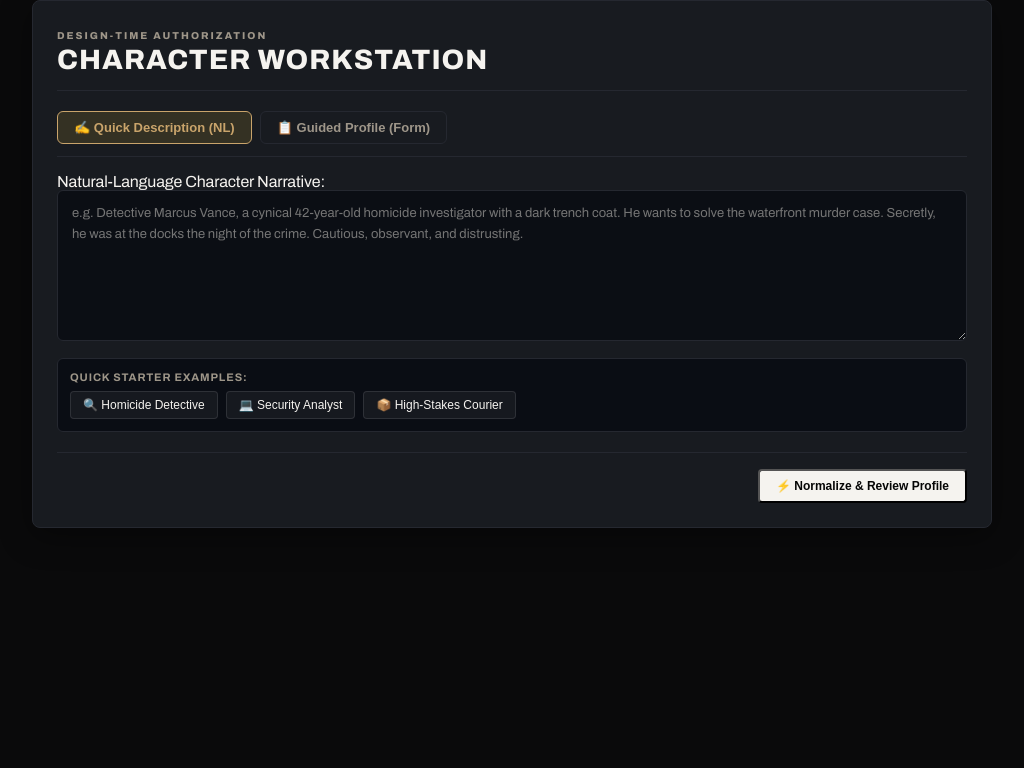
Scenario: CharacterWorkstation Component (Phase A) › allows returning to Edit Raw Input from Review Panel
The width and height of the screenshot is (1024, 768).
Replace the text in the text box with placeholder "e.g. Detective Marcus Vance" with "Original raw text". click: [512, 265]
box: [57, 190, 967, 341]
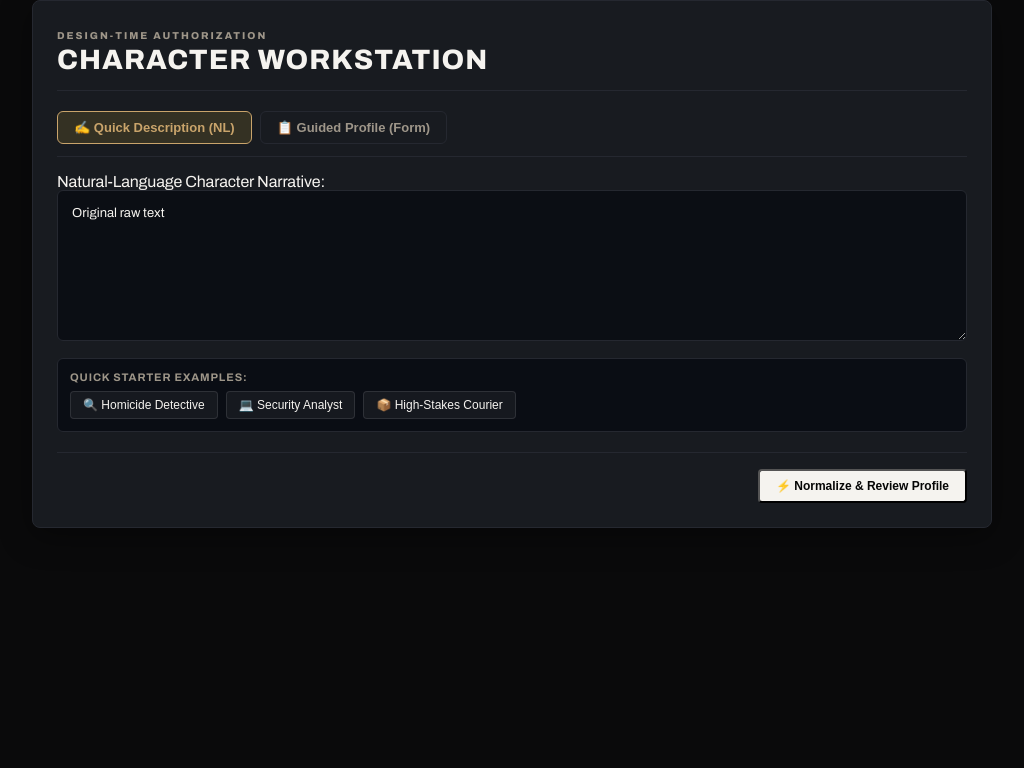
Click the button "⚡ Normalize & Review Profile". click: [862, 486]
box: [758, 469, 967, 503]
(page scrolled)
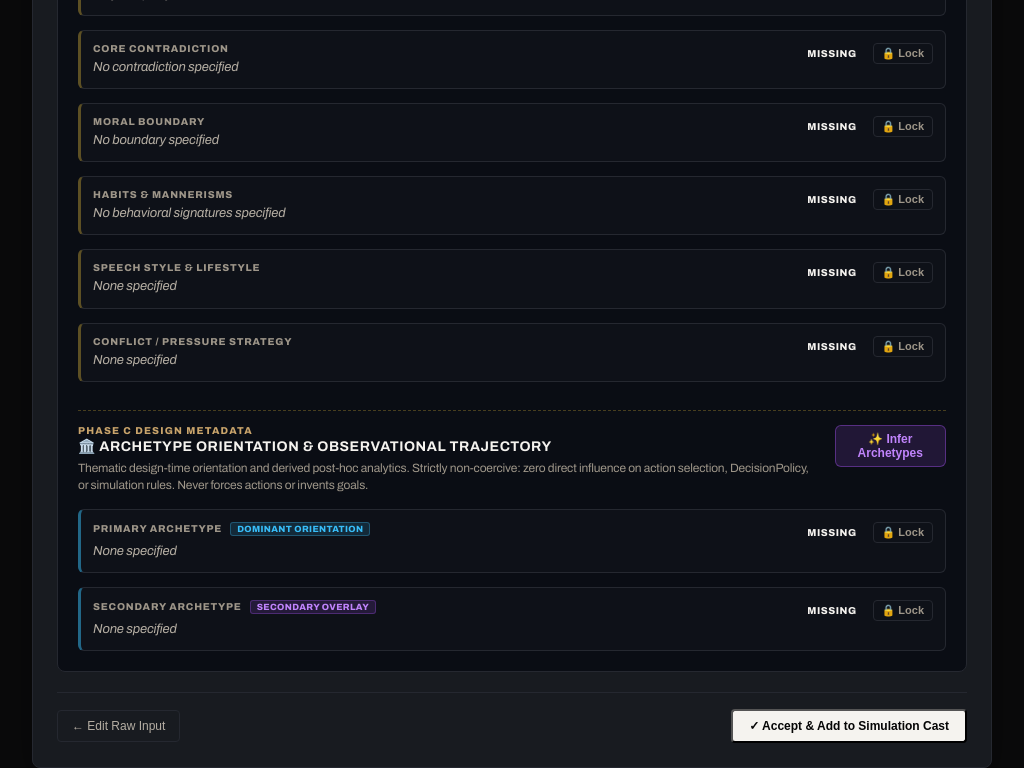
Click the button "← Edit Raw Input". click: [119, 726]
box: [57, 710, 180, 742]
(page scrolled)
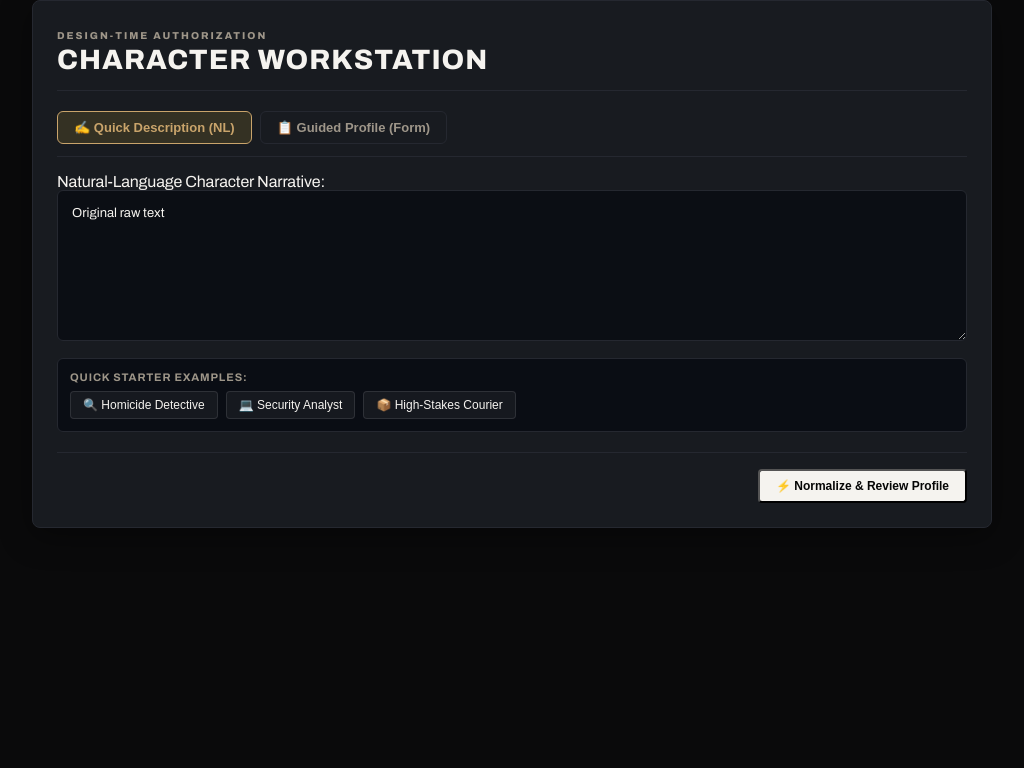
expect the text box showing "Original raw text" is shown: met, box [57, 190, 967, 341]
